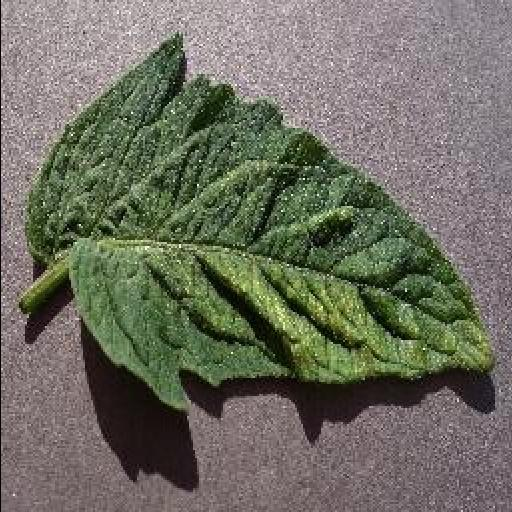disease_tomato: (22, 38, 500, 410)
